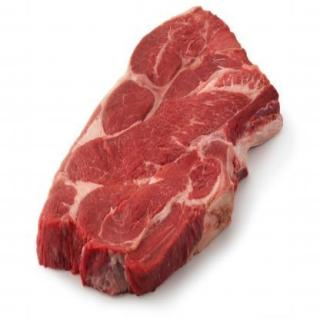Daging Sapi: (37, 7, 284, 296)
